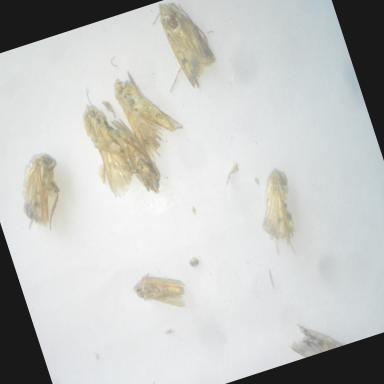abw: (72, 78, 146, 206), (106, 60, 192, 168), (140, 0, 227, 102), (1, 143, 81, 241), (242, 162, 314, 266), (98, 106, 170, 208), (126, 257, 195, 326), (276, 306, 344, 362)
